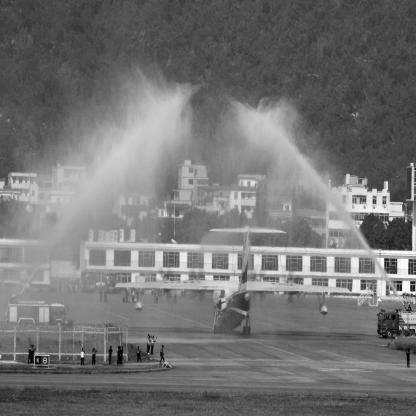AG600: (115, 228, 352, 337)
